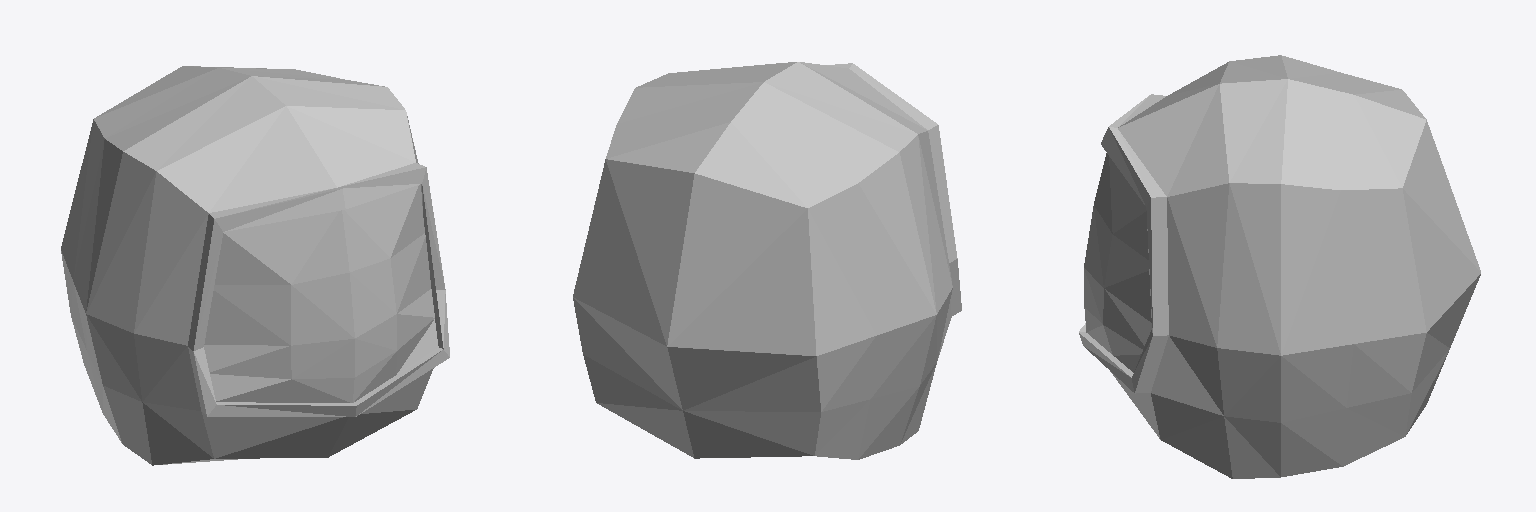
The model's file is astronauta_reloded_head.obj.
3 renders of one model, left to right at view 1: azimuth 30°, elevation 25°; view 2: azimuth 150°, elevation 25°; view 3: azimuth 270°, elevation 25°, orthographic.
Visible parts, largest first — view 1: Astronauta_Cubo; view 2: Astronauta_Cubo; view 3: Astronauta_Cubo.
Part boxes in pixels (x1,y1,x2,y2): Astronauta_Cubo: (61,66,449,465); Astronauta_Cubo: (573,62,961,459); Astronauta_Cubo: (1079,55,1480,478).
Bounding box in the file's own units: 0.304 × 0.3034 × 0.3133.